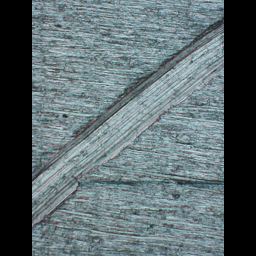d: (32, 15, 223, 232)
